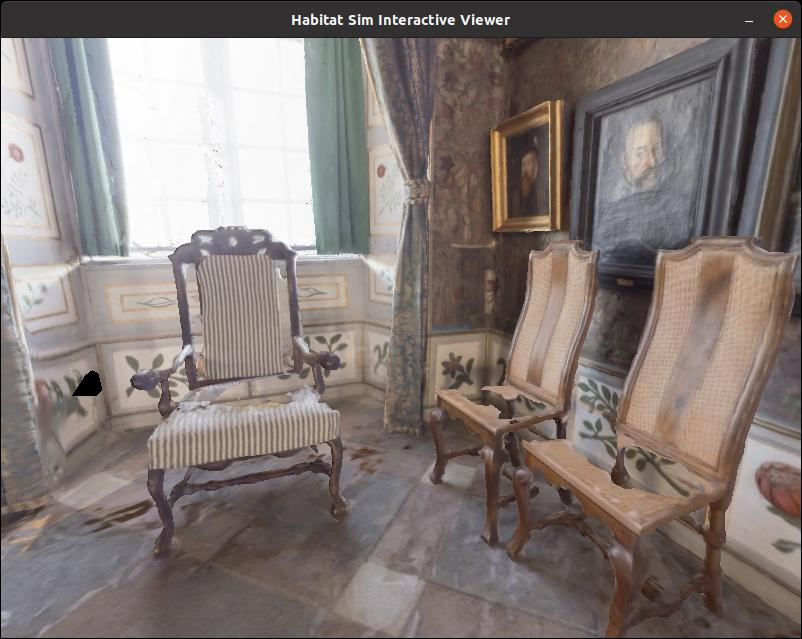chair: (492, 247, 802, 628), (107, 229, 377, 562), (421, 227, 600, 546)
